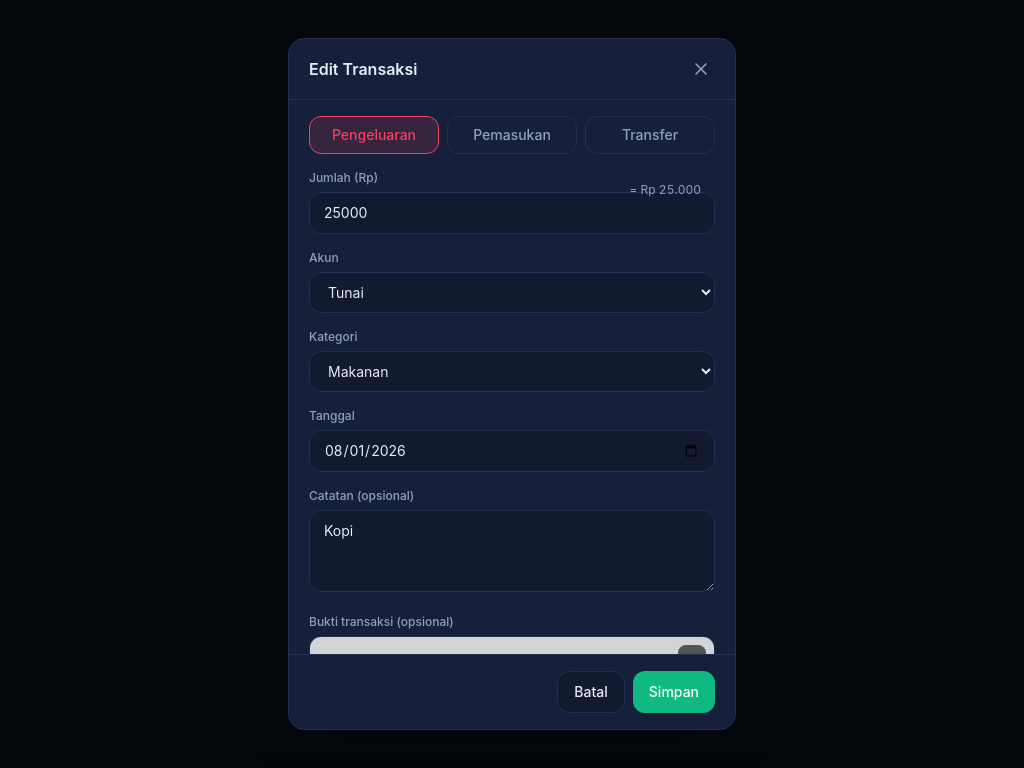
Test case: TransactionForm › prefills the form when editing and updates the transaction
Expected: the heading "Edit Transaksi" is shown, [309,57,417,81]
Expected: the dropdown labelled "Akun" shows "Tunai", [309,272,715,313]
Replace the text in the field labelled "Jumlah (Rp)" with "30000" at (512, 213), box [309,192,715,234]
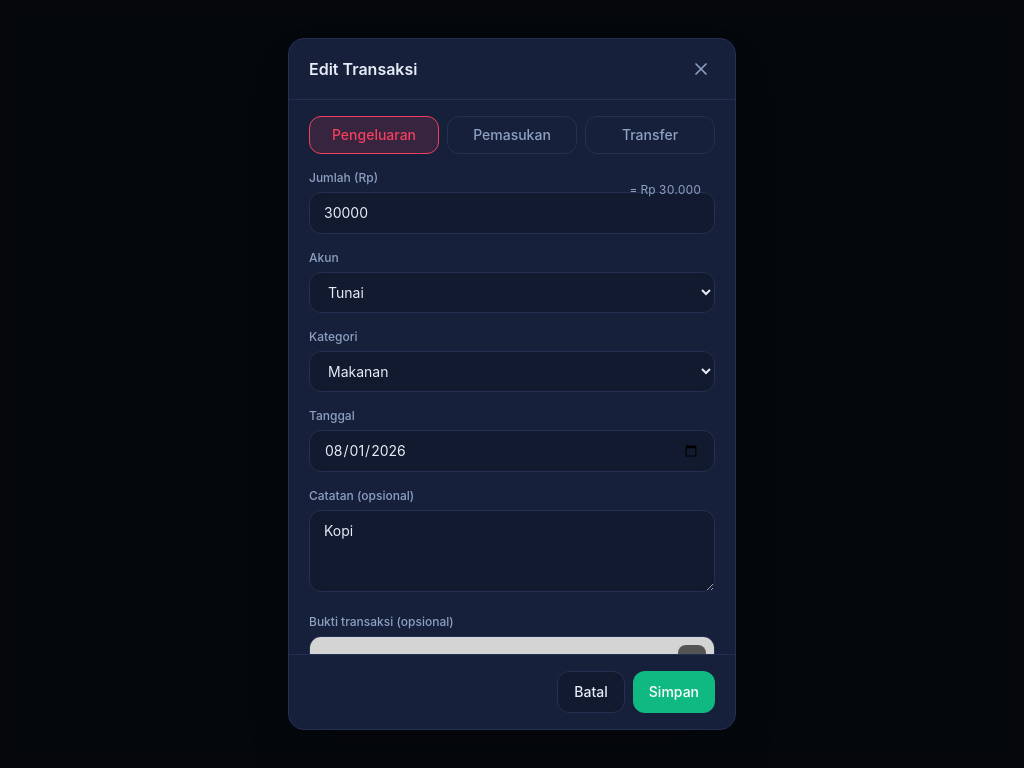
Submit the form with id "tx-form", box [309,116,715,766]
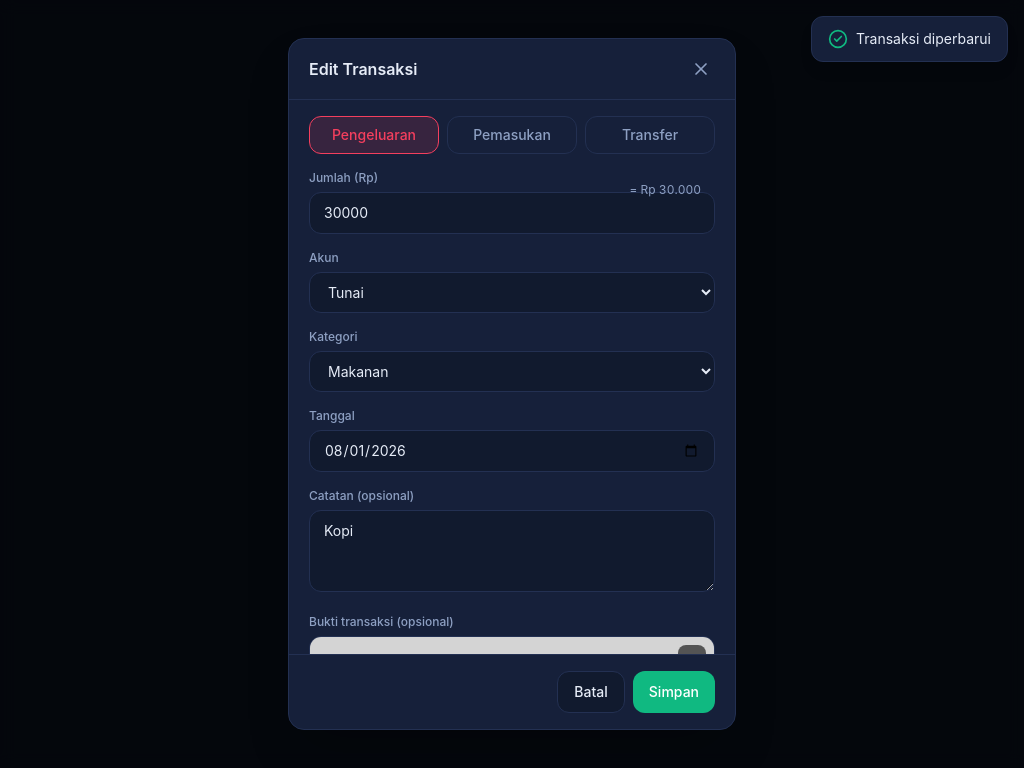
Expected: the text "Transaksi diperbarui" is shown, [856,29,991,49]
